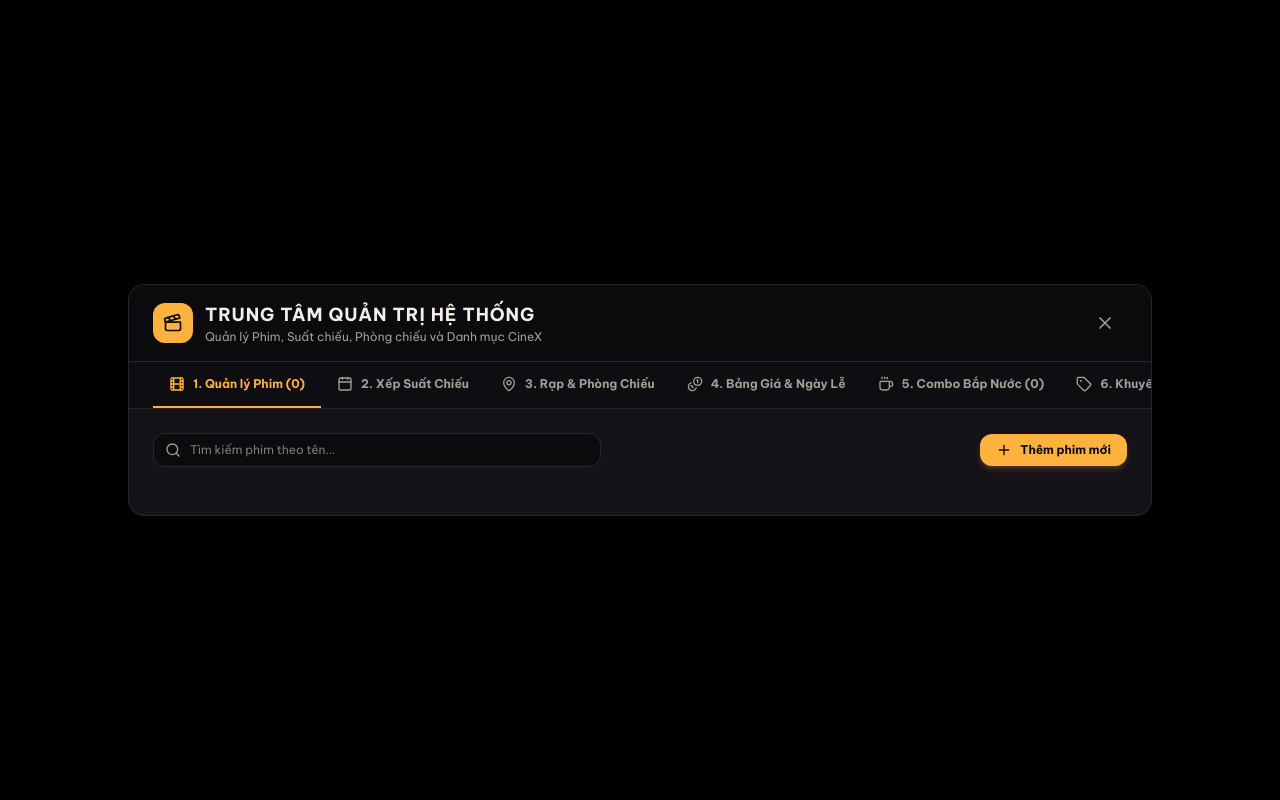
Test: AdminManagementModal › switches to rooms tab and creates a new room
The width and height of the screenshot is (1280, 800).
Expected: the heading "Trung Tâm Quản Trị Hệ Thống" is shown, [205,301,542,329]
Click the button "3. Rạp & Phòng Chiếu".
click(578, 385)  # box [485,362,671,408]
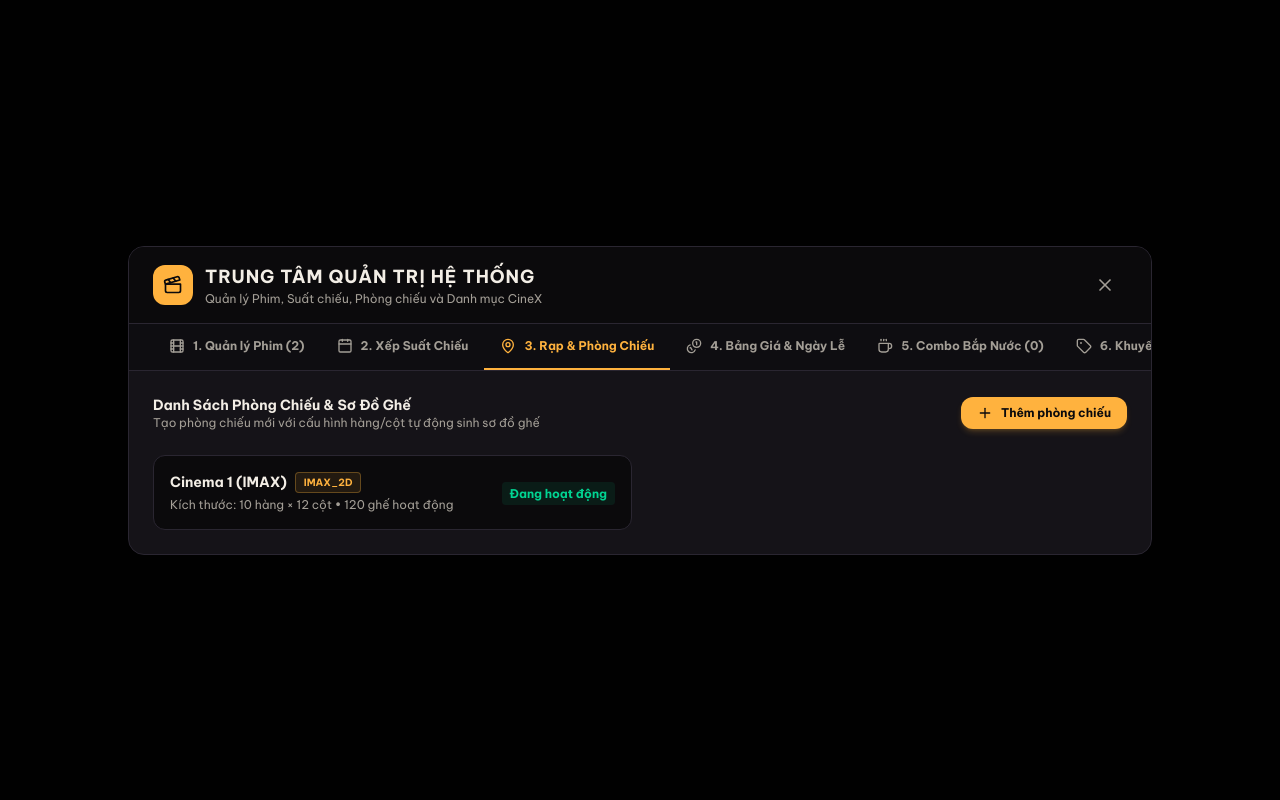
Expected: the heading "Danh Sách Phòng Chiếu & Sơ Đồ Ghế" is shown, [153,396,411,414]
Click the button "Thêm phòng chiếu".
click(1044, 412)  # box [961,396,1127,428]
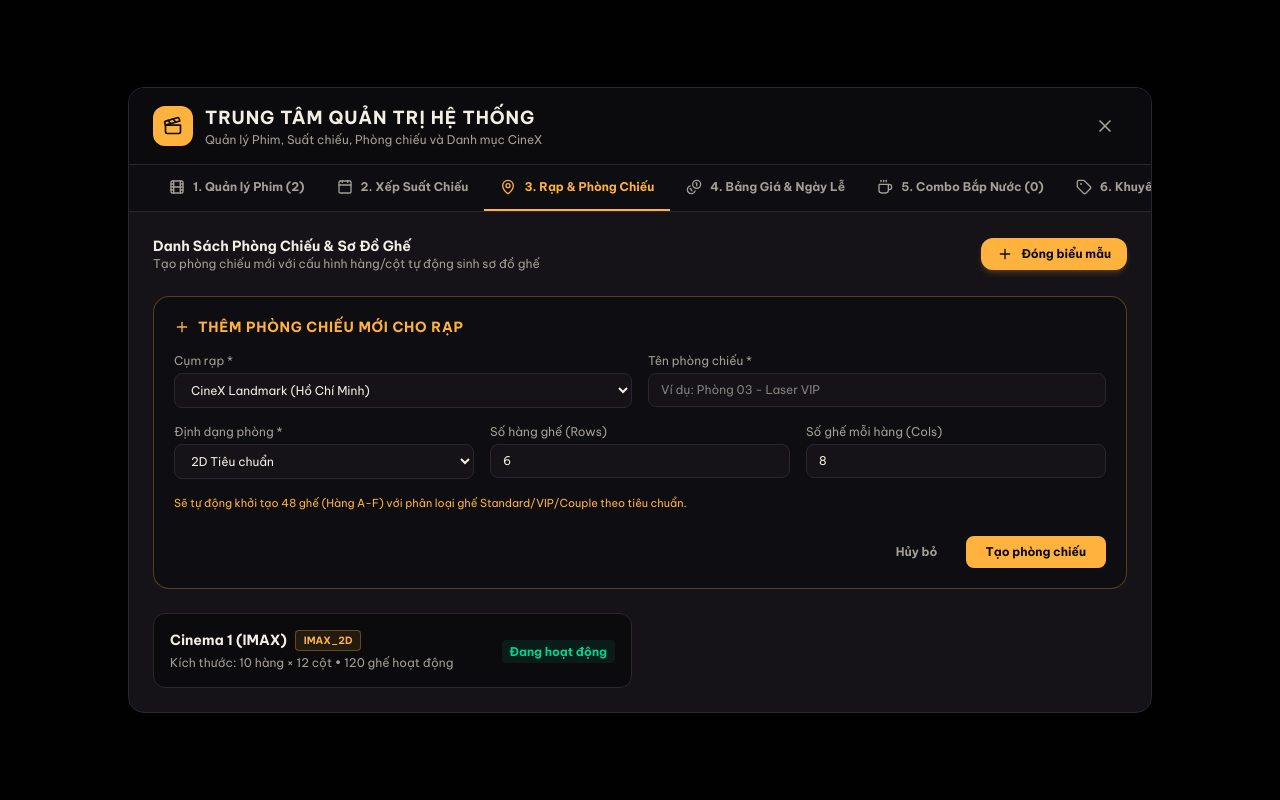
Type "Phòng 02 - Laser VIP" into the field with placeholder "Ví dụ: Phòng 03 - Laser VIP".
click(877, 390); type("Phòng 02 - Laser VIP")  # box [648,373,1106,407]
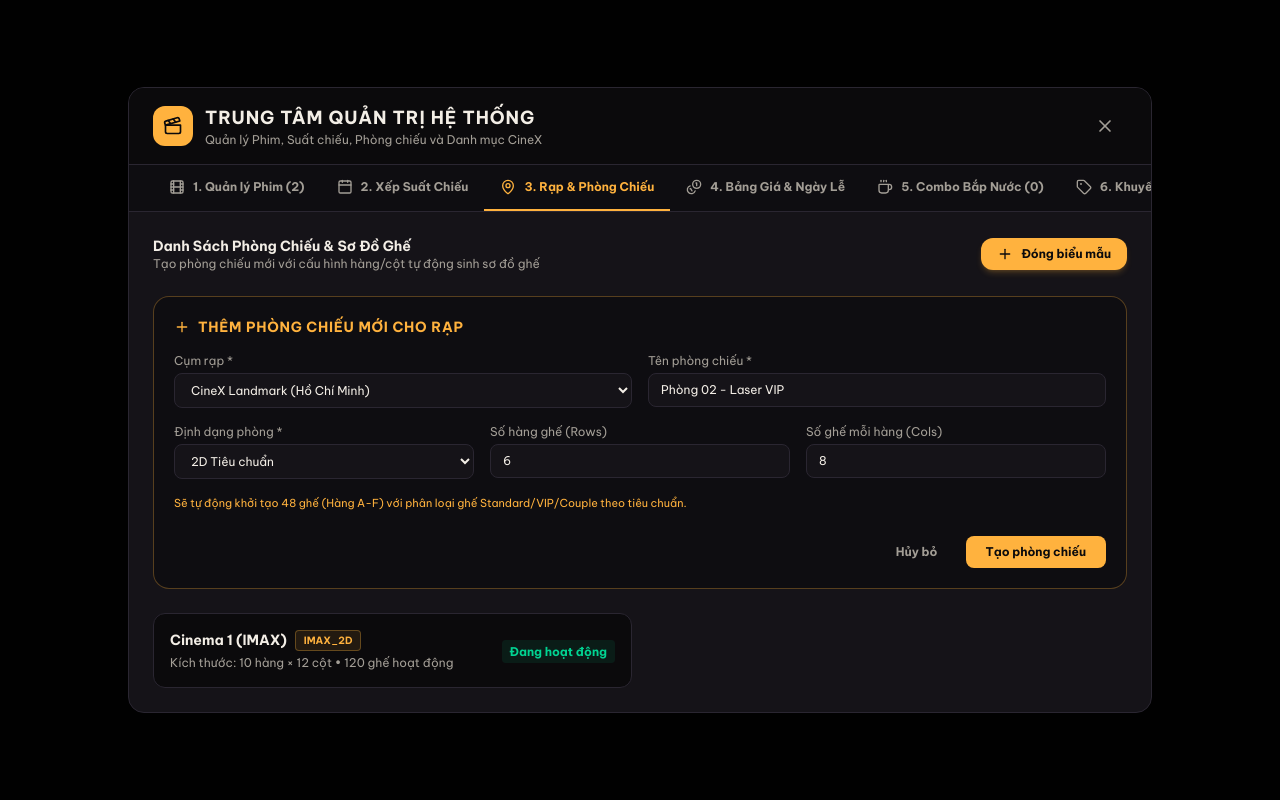
Click the button "Tạo phòng chiếu".
click(1036, 552)  # box [966,536,1106,568]
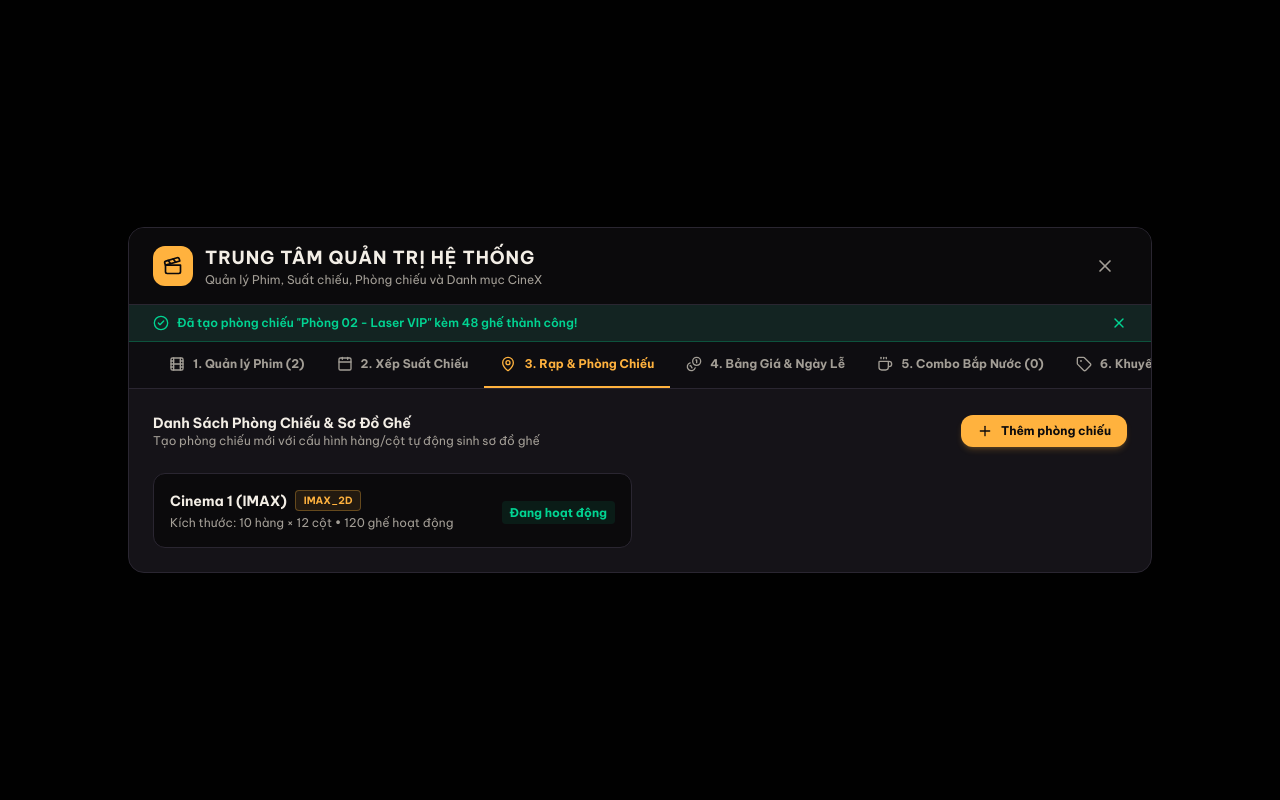
Expected: the text "Đã tạo phòng chiếu \"Phòng 02 - Laser VIP\"" is shown, [177,315,578,330]
